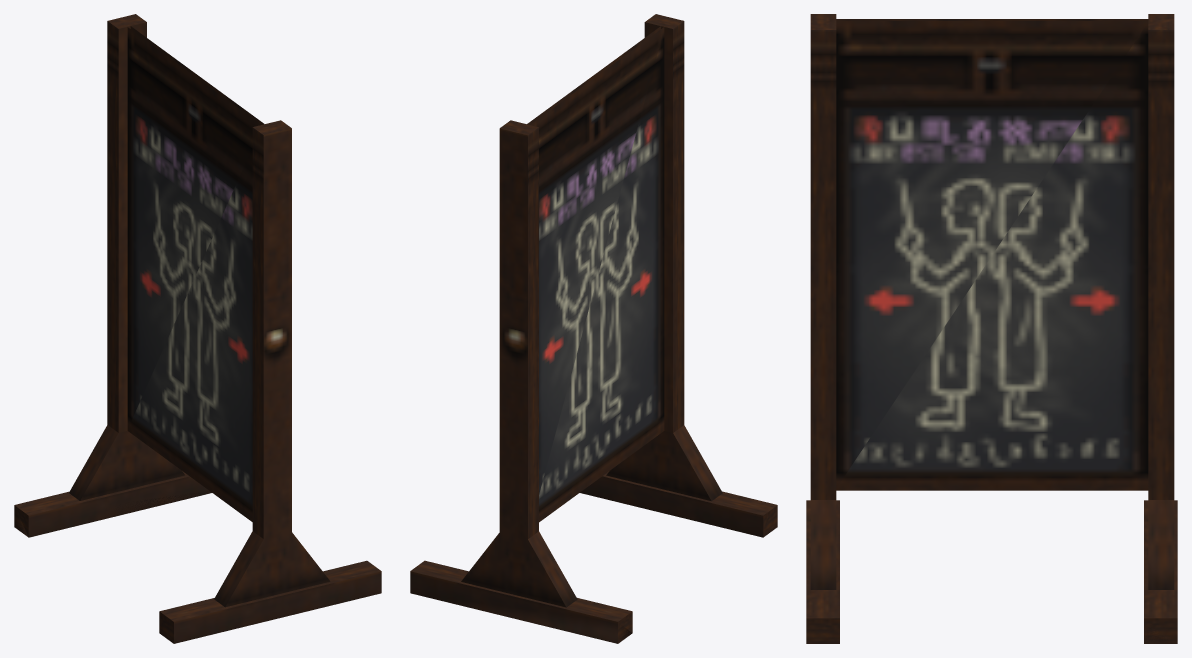
Rendered from BlackBoard.fbx.
3 renders of one model, left to right at view 1: azimuth 30°, elevation 25°; view 2: azimuth 150°, elevation 25°; view 3: azimuth 270°, elevation 25°, orthographic. The views are drawn at different scales.
Parts seen in each view (by area): view 1: skBlackboardWizDuelmesh; view 2: skBlackboardWizDuelmesh; view 3: skBlackboardWizDuelmesh.
Part boxes in pixels (left/top/right/bottom): skBlackboardWizDuelmesh: left=14, top=14, right=381, bottom=643; skBlackboardWizDuelmesh: left=410, top=14, right=777, bottom=643; skBlackboardWizDuelmesh: left=806, top=14, right=1177, bottom=643.
Size of the model in its own units: 5384 by 12006 by 7168.
1 material, 1 textured.
